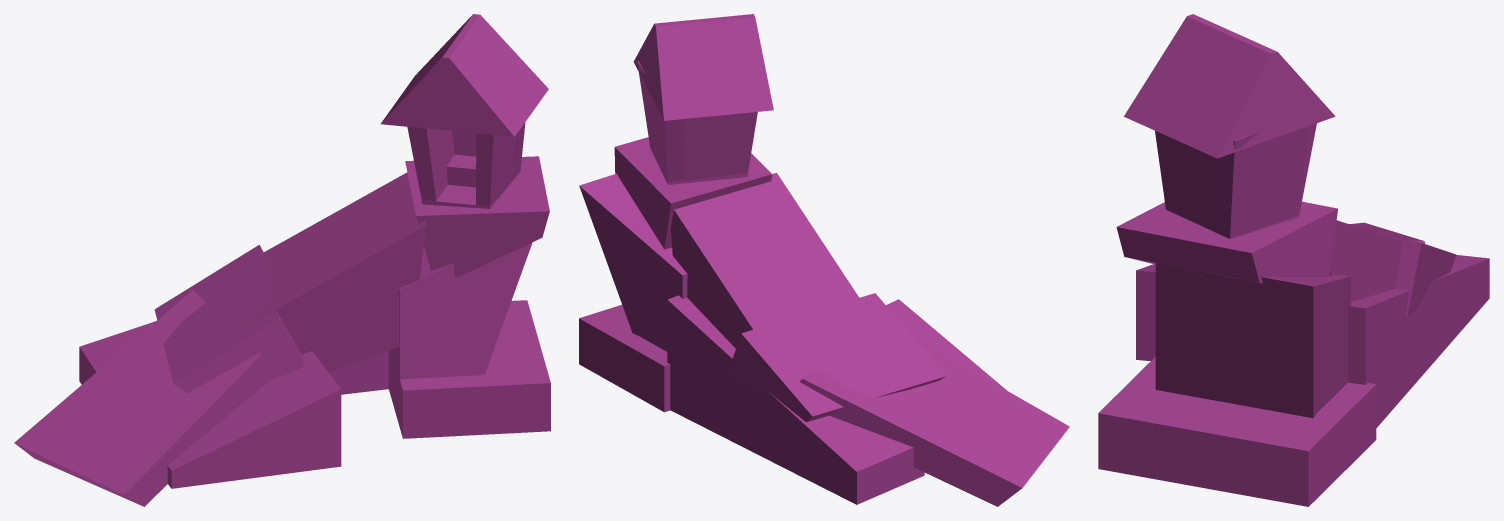
Rendered from SM_Bld_Outhouse_02_Collision1.fbx.
The picture shows the model from 3 angles, left to right: view 1: azimuth 30°, elevation 25°; view 2: azimuth 150°, elevation 25°; view 3: azimuth 270°, elevation 25°; orthographic projection. The views are drawn at different scales.
Parts seen in each view (by area): view 1: SM_Bld_Outhouse_02_Collision1; view 2: SM_Bld_Outhouse_02_Collision1; view 3: SM_Bld_Outhouse_02_Collision1.
Boxes of the visible parts, x1,y1,x2,y2 form: SM_Bld_Outhouse_02_Collision1: (14,14,550,506); SM_Bld_Outhouse_02_Collision1: (579,14,1069,506); SM_Bld_Outhouse_02_Collision1: (1098,14,1489,506).
Bounding box in the file's own units: 1174 × 864 × 703.
